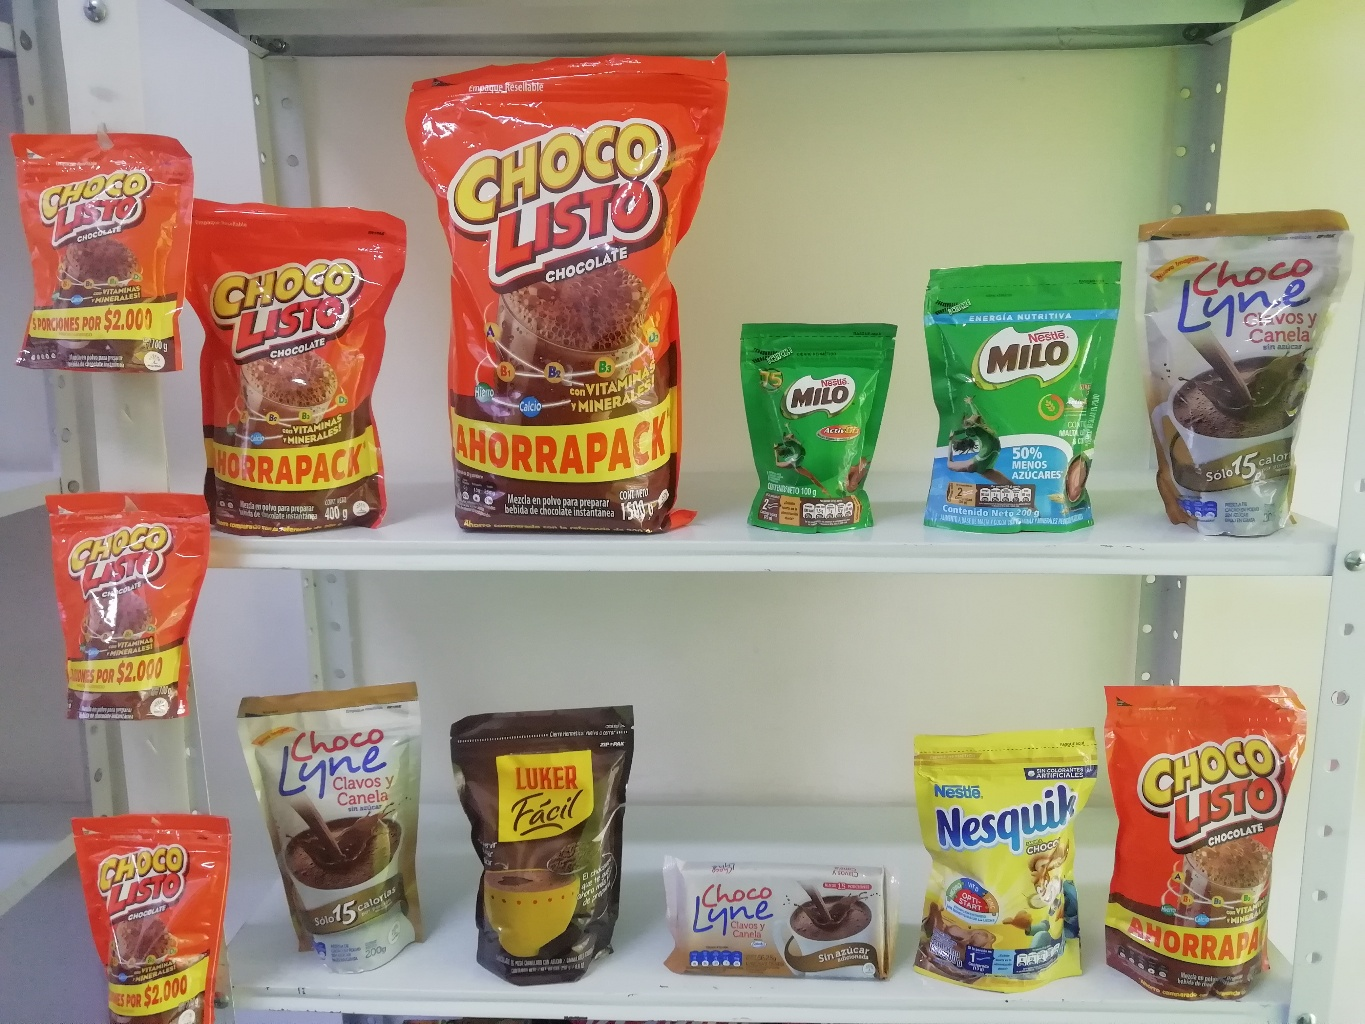COL0170103DYP1,500: (406, 70, 735, 534)
COL0170103DYP10000: (3, 123, 209, 376)
COL0170103DYP36000: (1105, 677, 1319, 1002)
COL0170103DYP40000: (171, 195, 410, 529)
COL0170203DYP10000: (730, 311, 899, 534)
COL0170205DYP20000: (919, 261, 1115, 538)
COL0170303DYP20000: (910, 724, 1104, 991)
